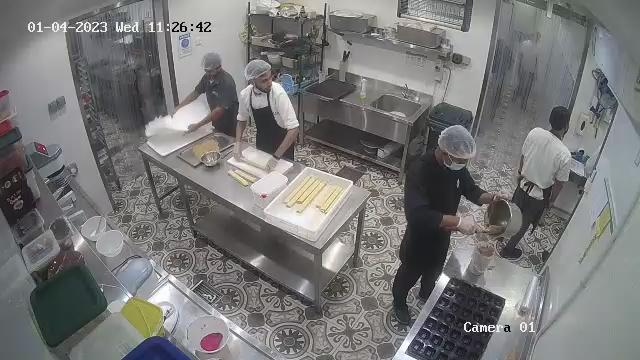apron: (246, 89, 291, 158)
no_apron: (414, 156, 465, 245), (203, 72, 234, 136)
